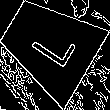L_NW: (22, 19, 77, 72)
